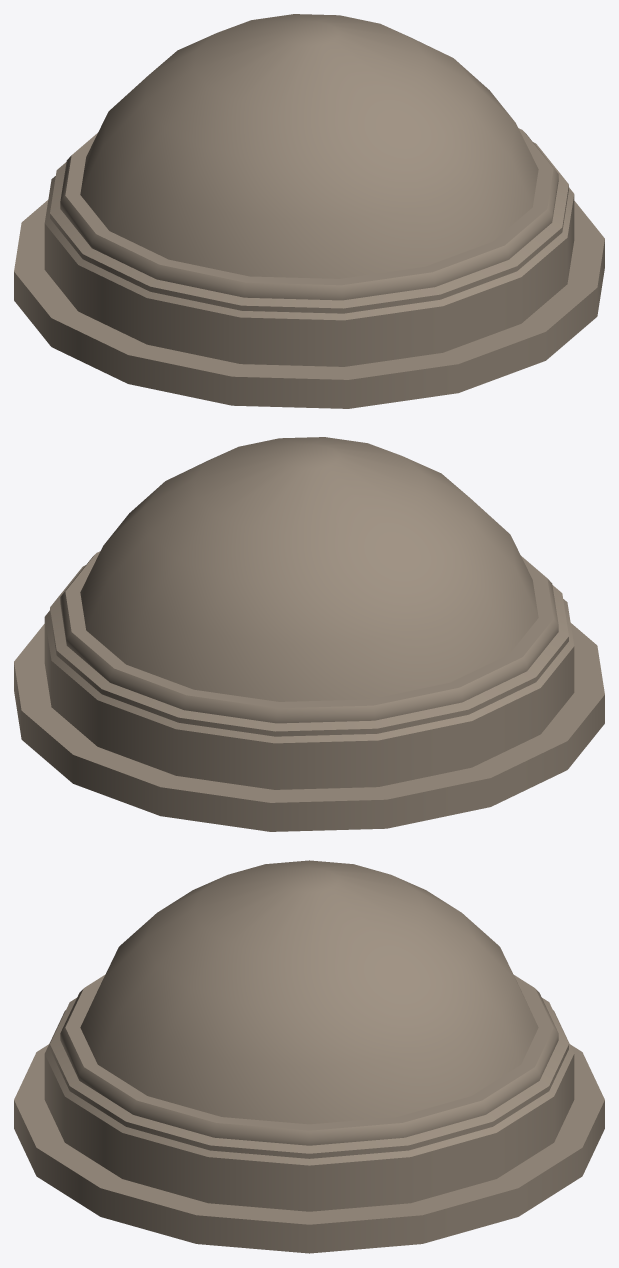
The model's file is BC_InsideDeco.fbx.
3 renders of one model, top to bottom at view 1: azimuth 30°, elevation 25°; view 2: azimuth 150°, elevation 25°; view 3: azimuth 270°, elevation 25°, orthographic.
Parts seen in each view (by area): view 1: BC_InsideDeco; view 2: BC_InsideDeco; view 3: BC_InsideDeco.
Boxes of the visible parts, x1,y1,x2,y2 form: BC_InsideDeco: (14,14,604,408); BC_InsideDeco: (14,437,604,831); BC_InsideDeco: (14,860,604,1253).
Bounding box in the file's own units: 233 × 108 × 233.
